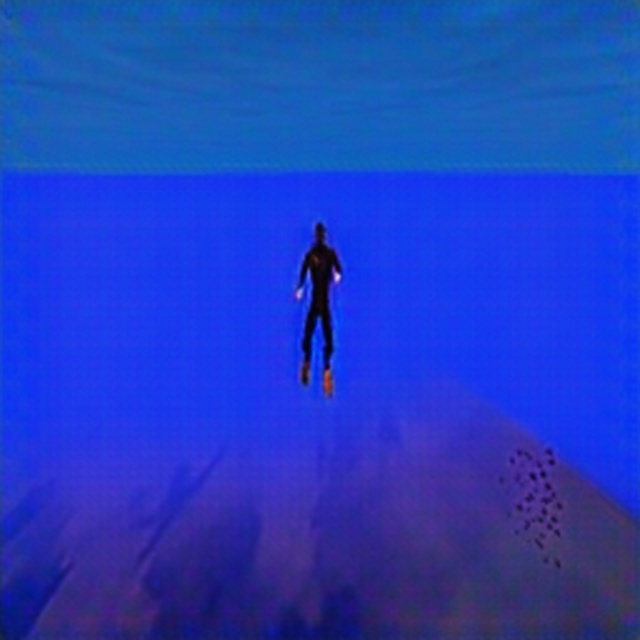diver: (293, 218, 344, 398)
